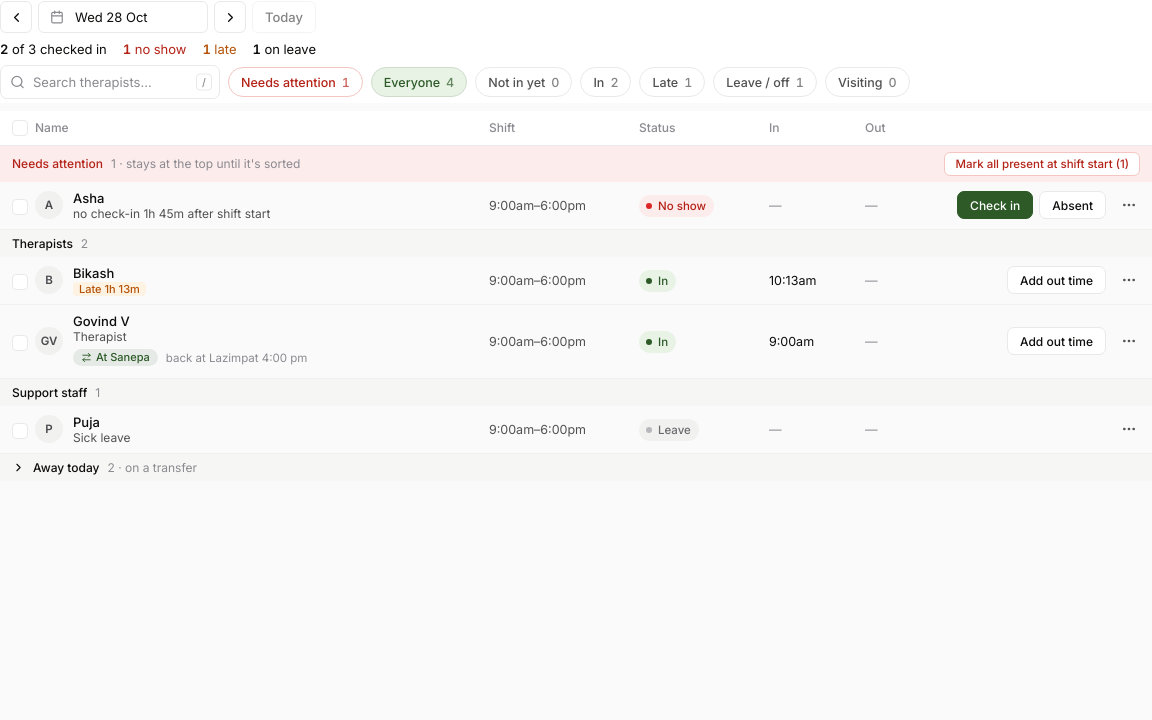
Test: AttendancePanel › ATTENDANCE_REASON_REQUIRED opens the side panel on the Reason field
Expected: the text "Asha" is shown, x1=73 y1=190 x2=104 y2=206
Step 1. Click the button "Check in" → (995, 205), box x1=957 y1=191 x2=1033 y2=219
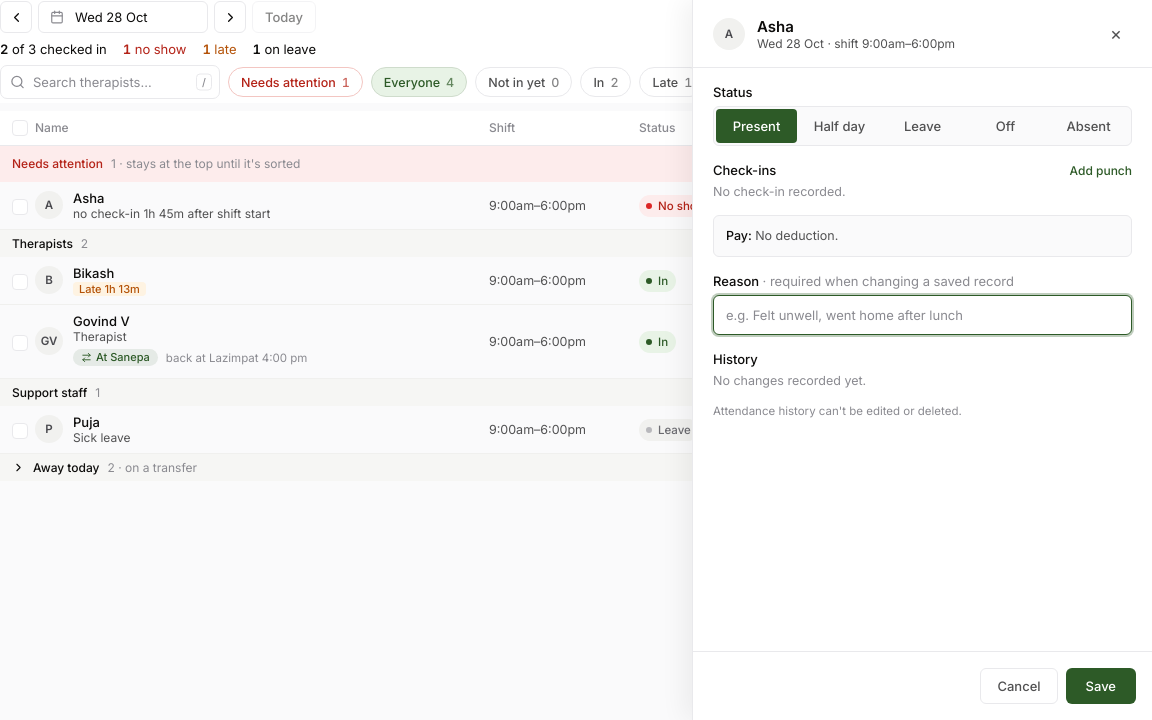
Expected: the element with test id "attendance-panel" is shown, x1=693 y1=68 x2=1151 y2=434
Expected: the field with placeholder "e.g. Felt unwell, went home after lunch" is shown, x1=713 y1=295 x2=1132 y2=335
